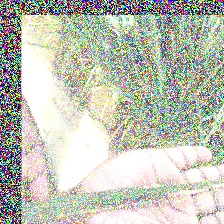Leaf_Blast: (53, 197, 169, 219), (138, 179, 178, 192)
